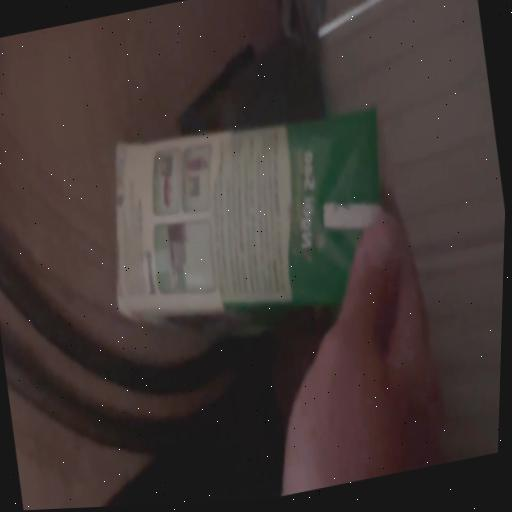ly_giay: (116, 110, 378, 335)
